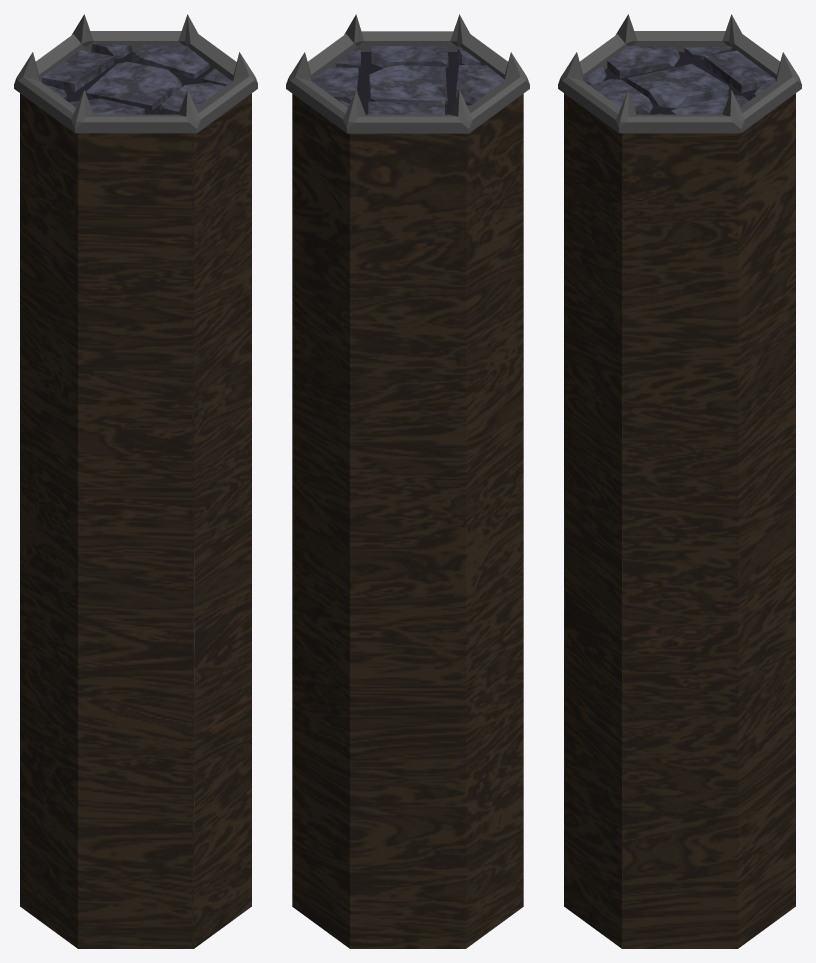
File: Tile.fbx
The picture shows the model from 3 angles, left to right: view 1: azimuth 30°, elevation 25°; view 2: azimuth 150°, elevation 25°; view 3: azimuth 270°, elevation 25°; orthographic projection.
Parts seen in each view (by area): view 1: Baldosas.002, Anillo.002; view 2: Baldosas.002, Anillo.002; view 3: Baldosas.002, Anillo.002.
Boxes of the visible parts, box(x1,y1,x2,y2) form: Baldosas.002: box(20, 43, 251, 948); Anillo.002: box(14, 14, 257, 133); Baldosas.002: box(292, 46, 523, 948); Anillo.002: box(286, 14, 529, 133); Baldosas.002: box(564, 45, 795, 948); Anillo.002: box(558, 14, 801, 133).
Bounding box in the file's own units: 1.73 × 7.74 × 2.
Materials: 2 (1 with a texture image).
